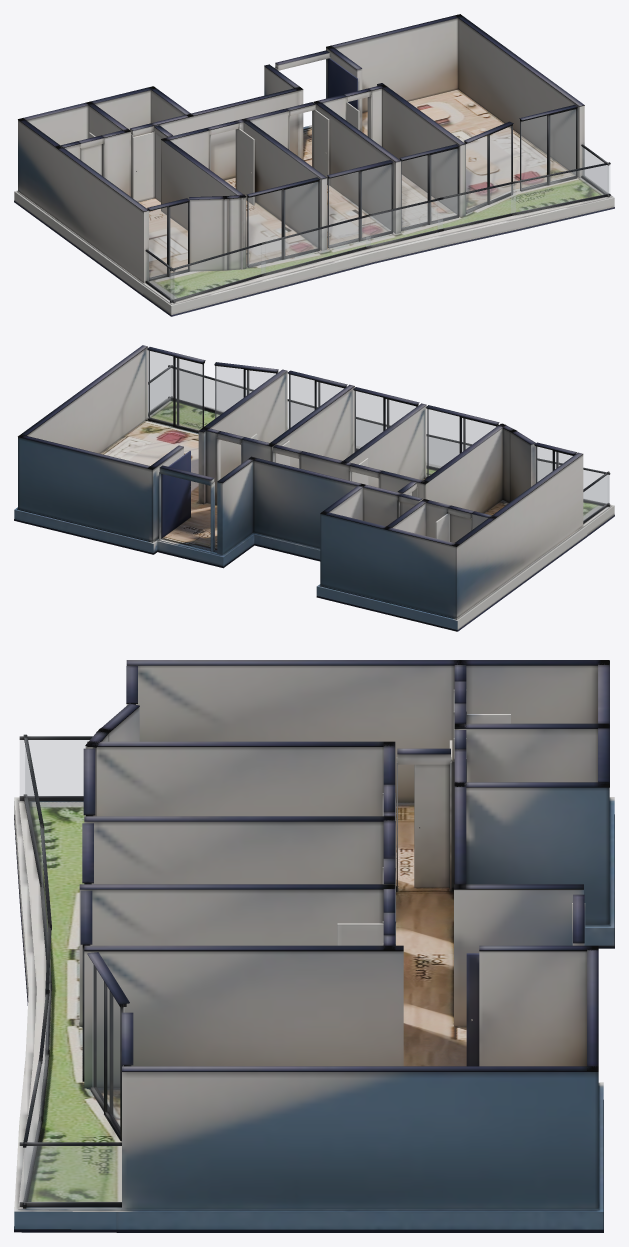
3 views of the same model, one above another, from view 1: azimuth 30°, elevation 25°; view 2: azimuth 150°, elevation 25°; view 3: azimuth 270°, elevation 25° (orthographic). The views are drawn at different scales.
Visible parts, largest first — view 1: plan, glass1_m, glass2_m, glass5_m, glass3_m, railg5_m, railg2_m, railg6_m, glass4_m, glass0_m, railg3_m, railg4_m (+2 smaller); view 2: plan, glass5_m, glass1_m, glass2_m, railg2_m, glass4_m, glass3_m, railg6_m, railg1_m, railg5_m, glass0_m, railg0_m (+1 smaller); view 3: plan, railg0_m, railg1_m, glass4_m, railg6_m, railg2_m.
Boxes of the visible parts, bbox=[...] form: plan: bbox=[14, 14, 614, 316]; glass1_m: bbox=[248, 182, 317, 265]; glass2_m: bbox=[328, 164, 391, 245]; glass5_m: bbox=[521, 109, 575, 188]; glass3_m: bbox=[401, 149, 457, 228]; railg5_m: bbox=[261, 216, 370, 273]; railg2_m: bbox=[511, 165, 609, 213]; railg6_m: bbox=[170, 244, 265, 300]; glass4_m: bbox=[465, 126, 510, 211]; glass0_m: bbox=[149, 203, 187, 278]; railg3_m: bbox=[438, 183, 515, 229]; railg4_m: bbox=[366, 200, 442, 246]; plan: bbox=[14, 345, 614, 631]; glass5_m: bbox=[148, 350, 202, 430]; glass1_m: bbox=[427, 409, 495, 476]; glass2_m: bbox=[354, 391, 415, 451]; railg2_m: bbox=[171, 368, 251, 411]; glass4_m: bbox=[215, 366, 275, 418]; glass3_m: bbox=[289, 374, 343, 428]; railg6_m: bbox=[538, 461, 609, 504]; railg1_m: bbox=[583, 475, 608, 520]; railg5_m: bbox=[429, 437, 468, 467]; glass0_m: bbox=[535, 446, 572, 482]; railg0_m: bbox=[150, 369, 170, 411]; plan: bbox=[14, 660, 614, 1232]; railg0_m: bbox=[20, 1146, 121, 1202]; railg1_m: bbox=[20, 740, 89, 796]; glass4_m: bbox=[92, 963, 124, 1130]; railg6_m: bbox=[25, 747, 42, 885]; railg2_m: bbox=[24, 1071, 40, 1204].
Bounding box in the file's own units: 14.64 × 2.62 × 8.95.
2 materials, 1 textured.
